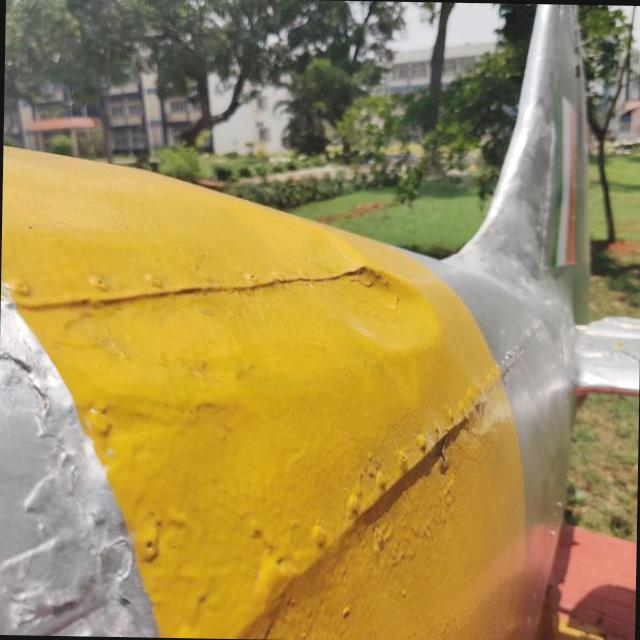dent: (328, 265, 444, 353)
